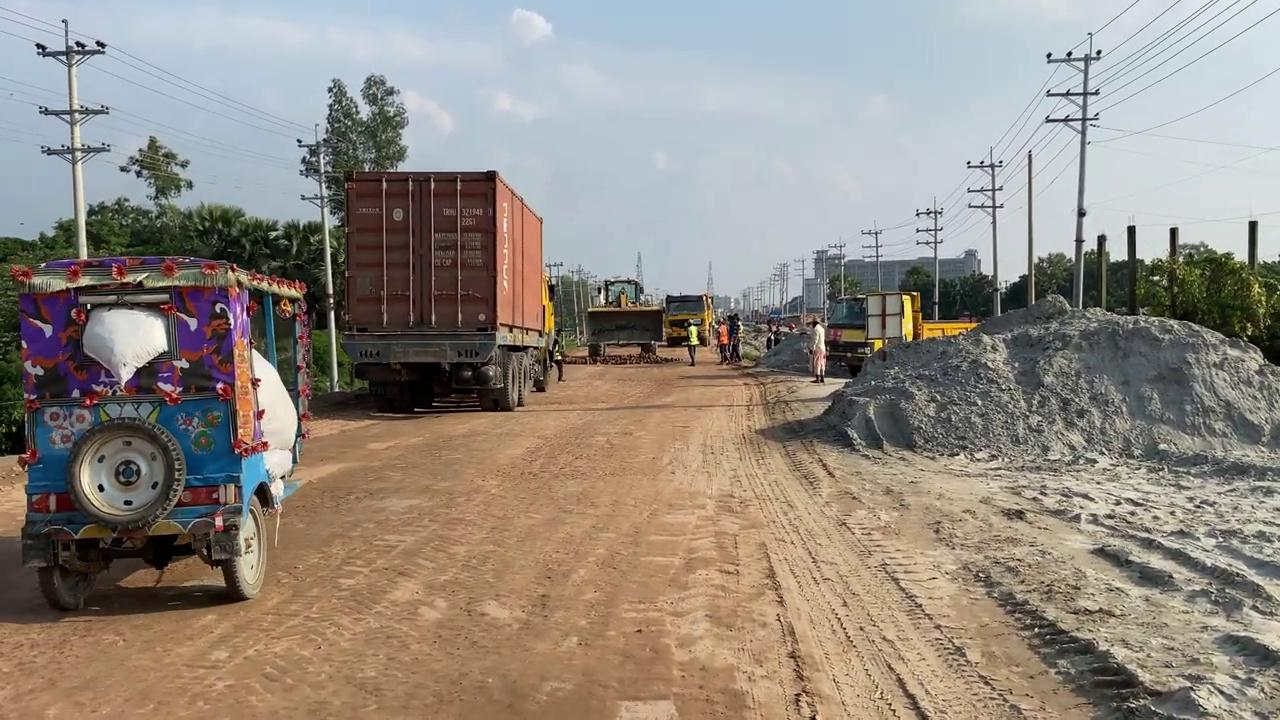Garbage: (802, 284, 1271, 466)
Obstacle: (336, 167, 553, 412)
Pole: (1025, 150, 1035, 306)
Tree: (12, 254, 313, 610), (822, 289, 979, 376), (584, 276, 663, 362), (901, 290, 980, 341), (531, 271, 559, 391), (662, 293, 714, 346)
